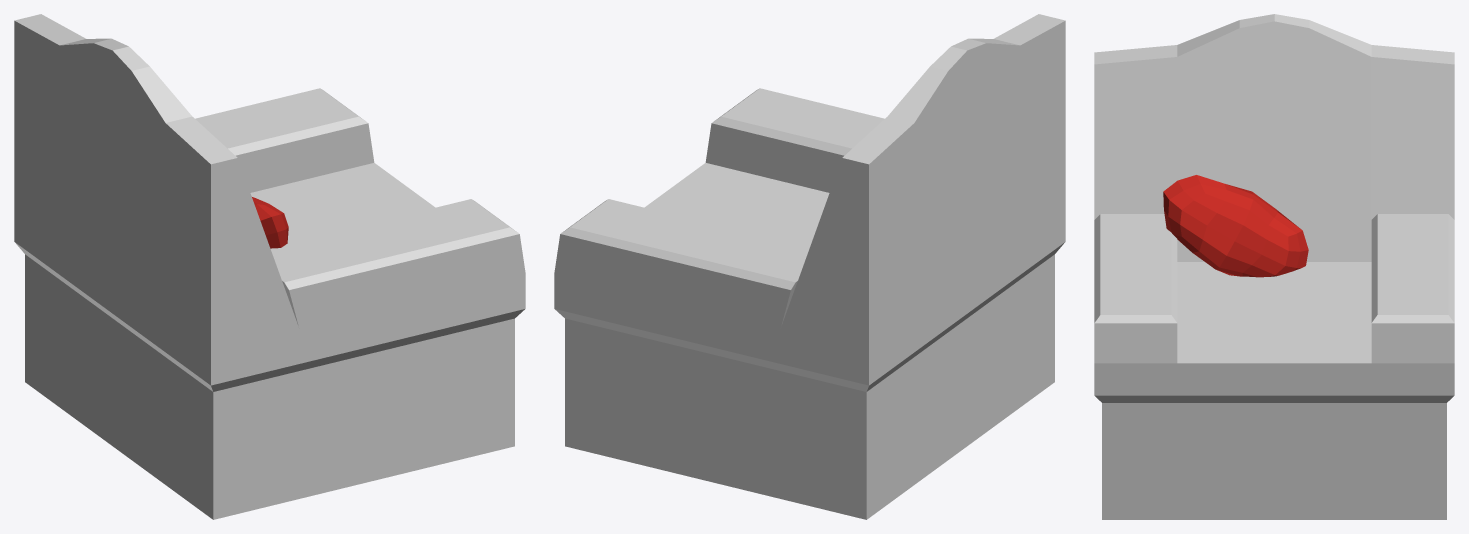
The model's file is seat.fbx.
3 renders of one model, left to right at view 1: azimuth 30°, elevation 25°; view 2: azimuth 150°, elevation 25°; view 3: azimuth 270°, elevation 25°, orthographic. The views are drawn at different scales.
Visible parts, largest first — view 1: seat, pillow_1; view 2: seat; view 3: seat, pillow_1.
Part boxes in pixels (x1=…): seat: x1=14, y1=14, x2=525, y2=519; pillow_1: x1=252, y1=197, x2=288, y2=248; seat: x1=554, y1=14, x2=1065, y2=519; seat: x1=1094, y1=14, x2=1454, y2=519; pillow_1: x1=1163, y1=175, x2=1308, y2=277.
Bounding box in the file's own units: 86.67 × 106 × 93.74.
